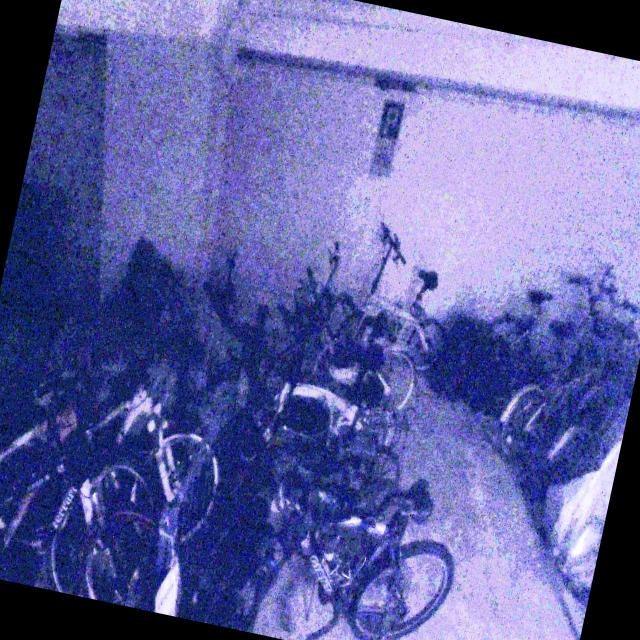bike: (0, 323, 242, 580), (211, 440, 472, 640), (0, 345, 181, 607), (493, 271, 640, 477), (272, 234, 440, 410), (325, 218, 465, 376), (476, 256, 618, 410)
